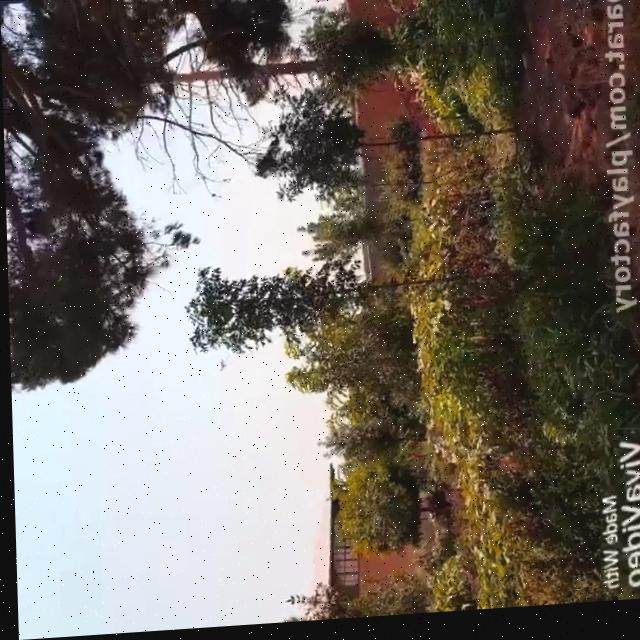drone: (213, 359, 227, 377)
